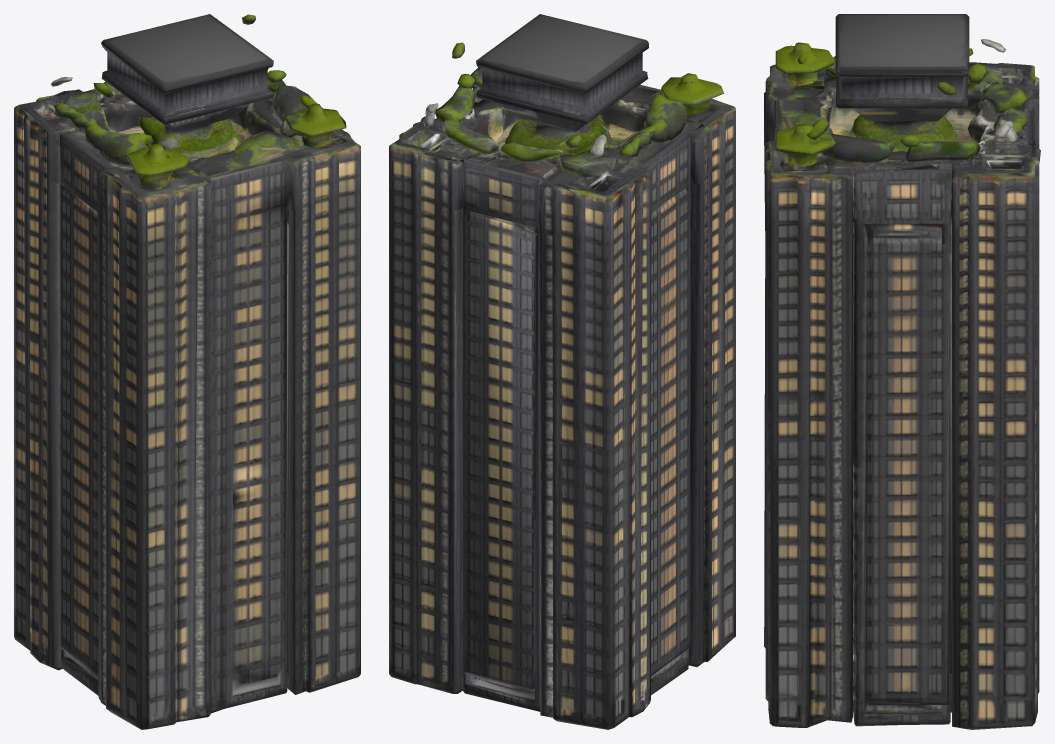
File: skyscraper_medium_2.glb
3 renders of one model, left to right at view 1: azimuth 30°, elevation 25°; view 2: azimuth 150°, elevation 25°; view 3: azimuth 270°, elevation 25°, orthographic. The views are drawn at different scales.
Bounding box in the file's own units: 0.7515 × 1.91 × 0.7554.
1 material, 1 textured.
